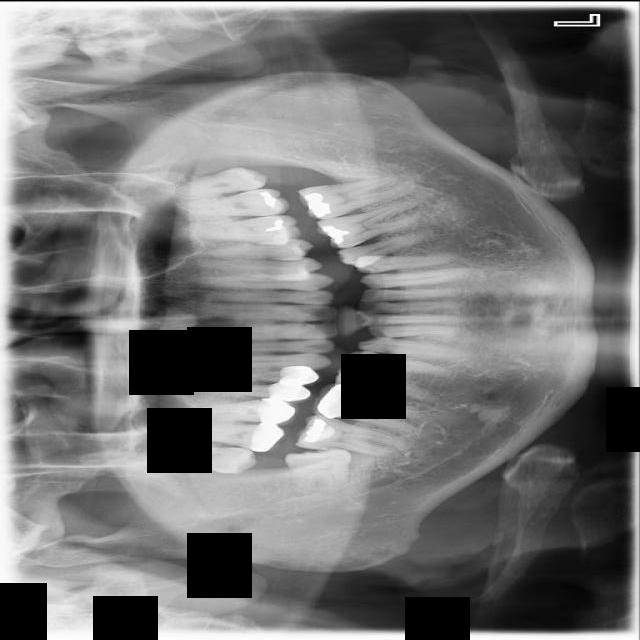3M ESPE Implant: (156, 438, 258, 477)
52: (292, 174, 351, 234), (290, 401, 348, 462), (312, 201, 370, 261), (308, 375, 367, 431), (248, 395, 300, 457), (252, 210, 302, 249), (235, 188, 289, 215), (264, 378, 316, 406), (274, 362, 322, 389)
73: (181, 399, 260, 427), (566, 61, 572, 64)
BioHorizons Implant: (181, 186, 288, 222)
BioLife Implant: (172, 163, 269, 200)
Blue Sky Bio Implant: (296, 171, 414, 223)
Caries: (166, 417, 287, 453)
Implant: (292, 412, 411, 460)
Keystone Dental Implant: (283, 445, 353, 495)
